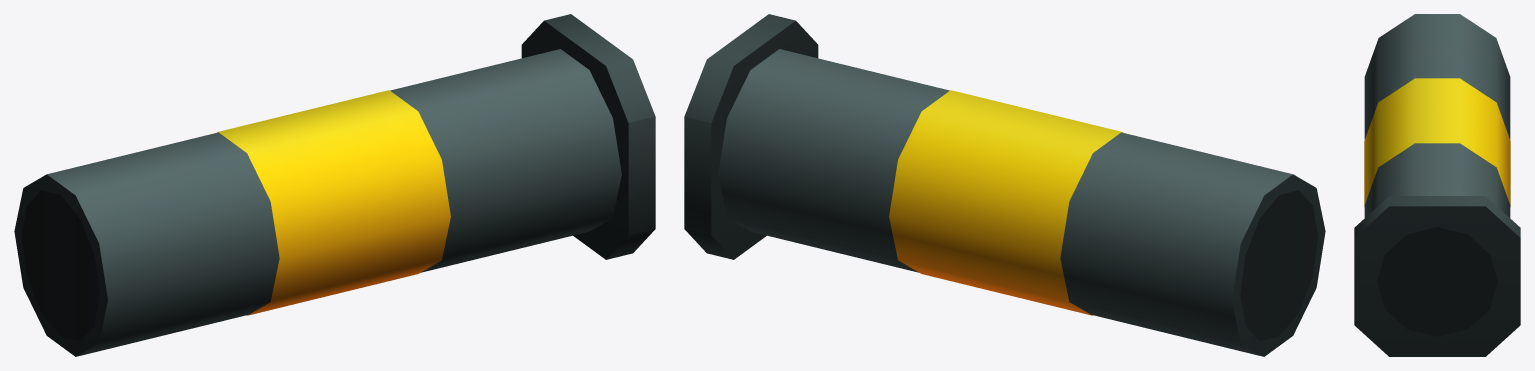
The model's file is Pipe_3D.fbx.
3 views of the same model, side by side, from view 1: azimuth 30°, elevation 25°; view 2: azimuth 150°, elevation 25°; view 3: azimuth 270°, elevation 25° (orthographic). The views are drawn at different scales.
Visible parts, largest first — view 1: Pipe_3D; view 2: Pipe_3D; view 3: Pipe_3D.
Part boxes in pixels (box(x1,y1,x2,y2)): Pipe_3D: box(14, 14, 655, 356); Pipe_3D: box(684, 14, 1325, 356); Pipe_3D: box(1354, 14, 1520, 356).
Bounding box in the file's own units: 4.01 × 1.37 × 1.37.
